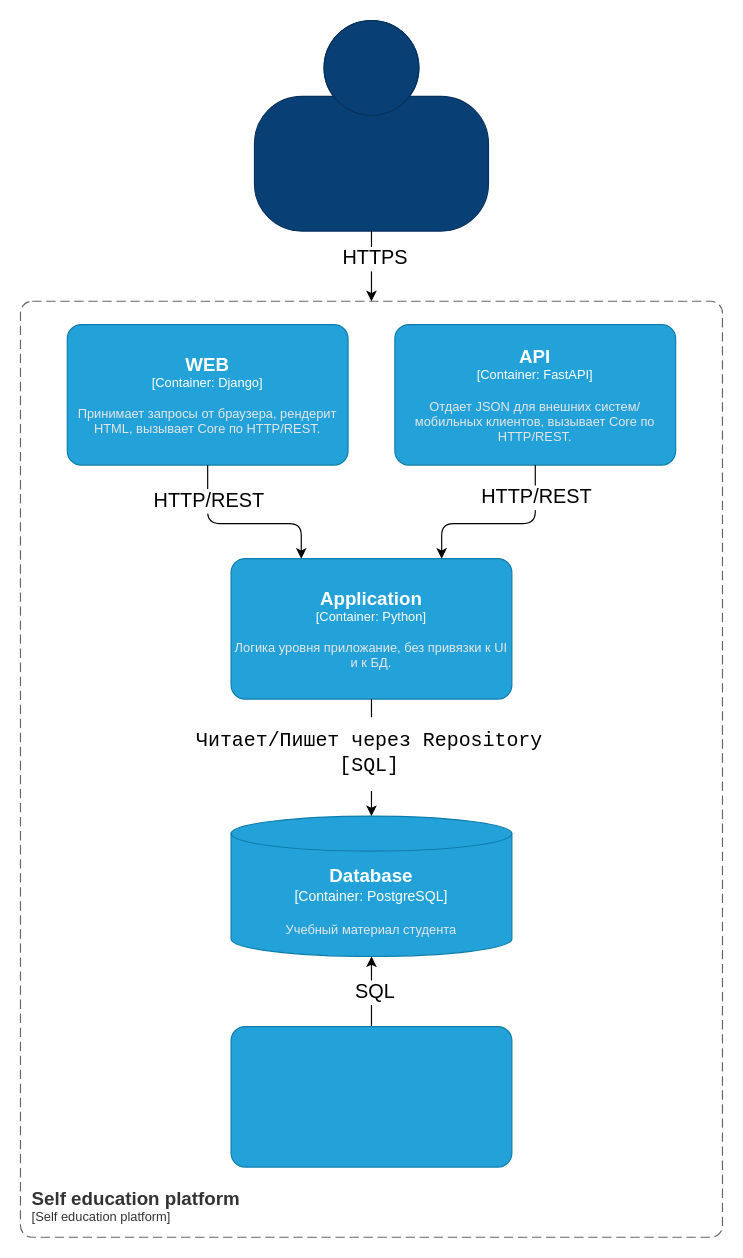
This 743x1258 diagram has some shape labels left out. The shapes that lost their labels are listed below. From the top down, each one's centre as x and y in pixels, then its label:
pixel 370 125: Student [Person] Определяет/Добавляет учебный материал и изучает его.
pixel 371 1096: Admin App [Container: Django Admin] Управляет схемами БД.
